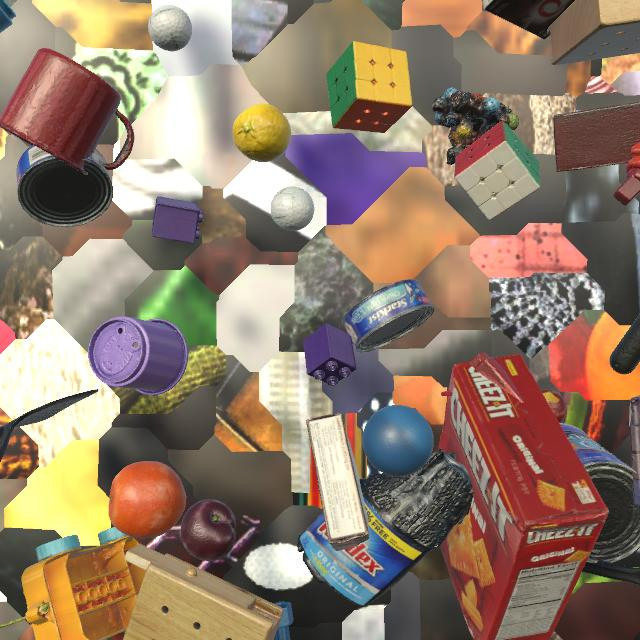ycb_002_master_chef_can: (560, 423, 640, 564)
ycb_003_cracker_box: (438, 354, 609, 640)
ycb_007_tuna_fish_can: (16, 145, 114, 227), (343, 279, 434, 353)
ycb_008_pudding_box: (306, 413, 369, 551), (482, 0, 575, 40)
ycb_014_lemon: (232, 103, 291, 162)
ycb_017_orange: (108, 461, 186, 538)
ycb_018_plum: (180, 499, 236, 561)
